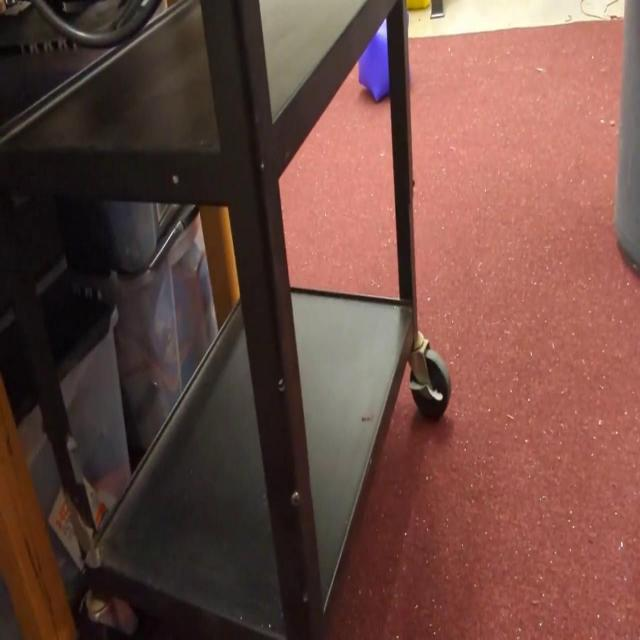frc_cube: (359, 18, 391, 102)
